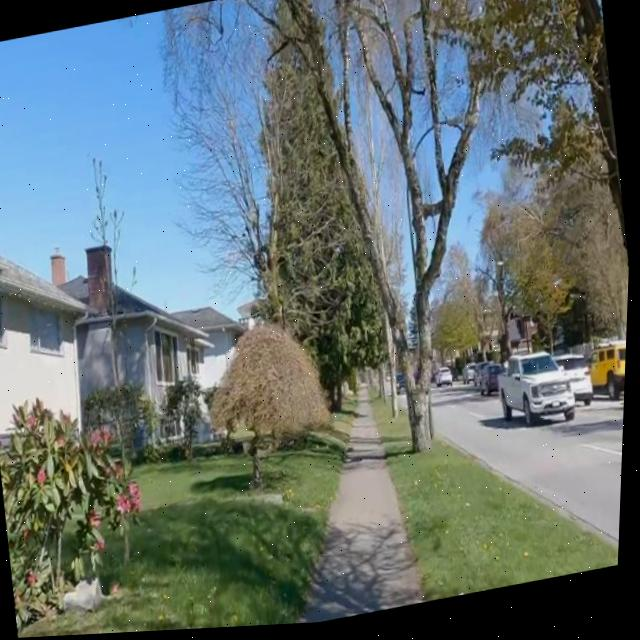Automobile: (503, 359, 577, 432), (594, 347, 629, 406), (558, 361, 596, 411), (481, 369, 504, 399), (438, 372, 455, 391)
Road: (437, 393, 627, 550)
Sidewalk: (306, 391, 429, 627)
